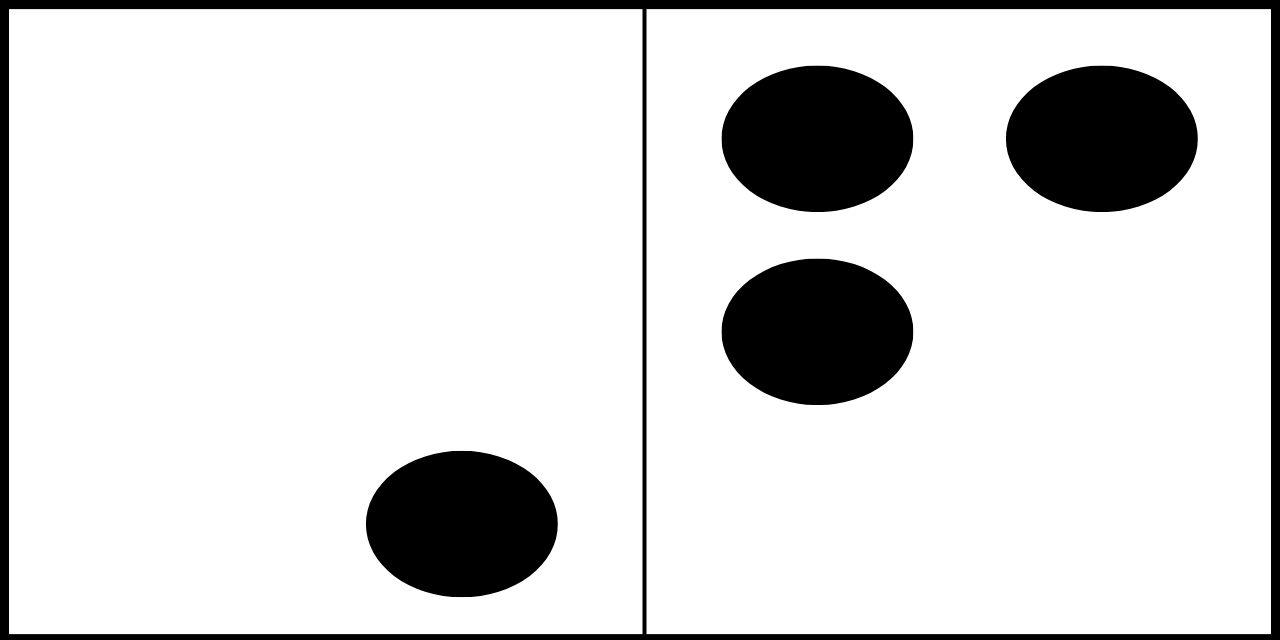capital_sign: (130, 56, 557, 598)
letter_F: (722, 66, 1199, 585)
